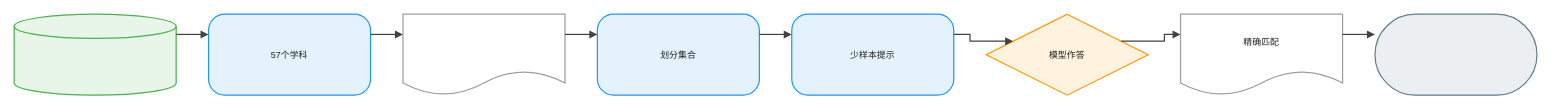
Image size: 1552x110. Some labels were removed from this diagram. Each missing label, with the box of its shape:
平均准确率: (1374, 13, 1537, 95)
考试来源: (13, 13, 176, 95)
选择题目: (402, 13, 565, 95)
